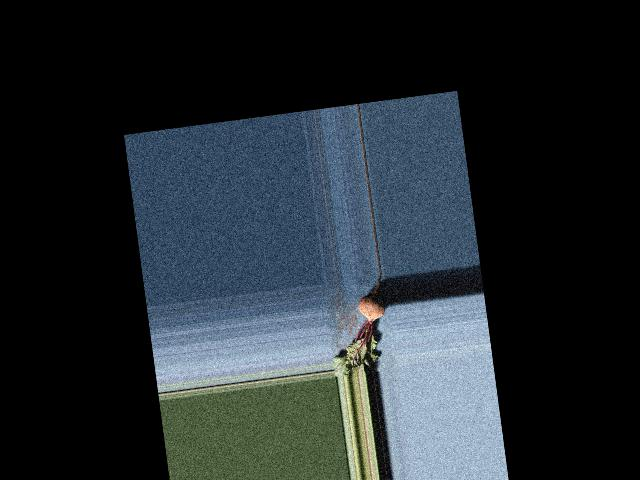beet: (322, 275, 394, 378)
